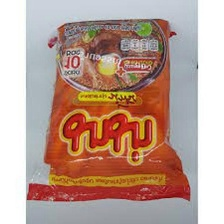snack: (25, 13, 197, 209)
